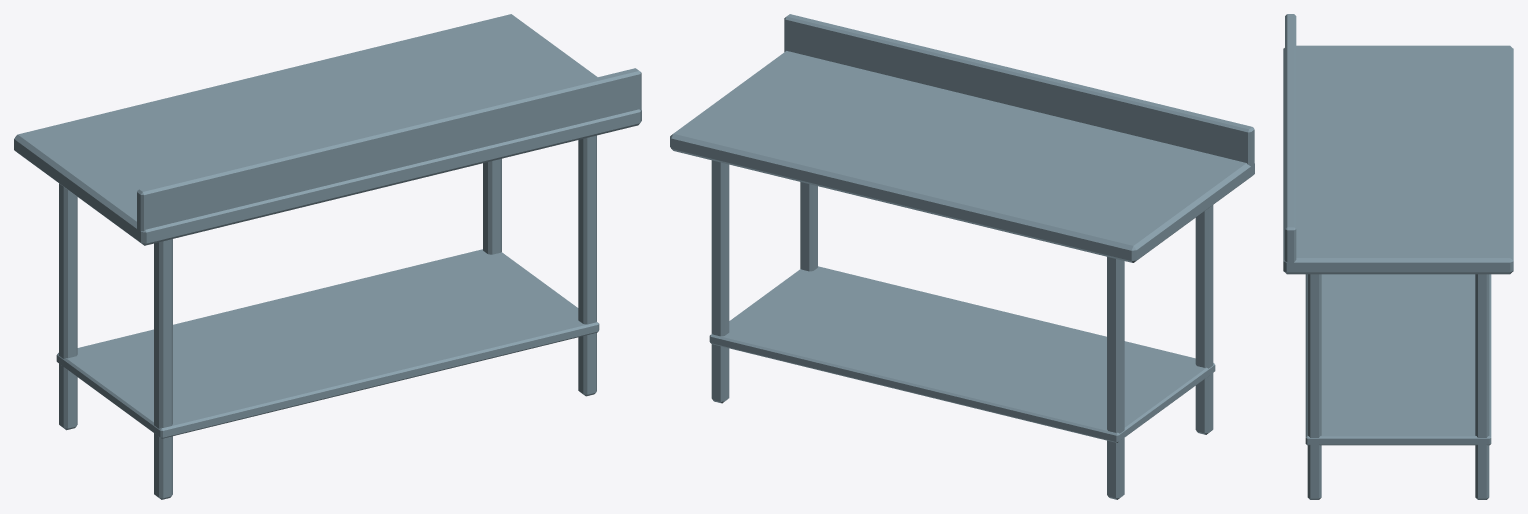
Rendered from stainless_prep_table.glb.
3 renders of one model, left to right at view 1: azimuth 30°, elevation 25°; view 2: azimuth 150°, elevation 25°; view 3: azimuth 270°, elevation 25°, orthographic. The views are drawn at different scales.
Visible parts, largest first — view 1: work_surface, lower_shelf, rear_splash_guard, table_leg (×4); view 2: work_surface, lower_shelf, rear_splash_guard, table_leg (×4); view 3: work_surface, lower_shelf, table_leg (×2), rear_splash_guard.
Boxes of the visible parts, x1,y1,x2,y2 form: work_surface: (14, 14, 641, 245); lower_shelf: (56, 249, 599, 438); rear_splash_guard: (137, 68, 641, 238); table_leg (×4): (59, 135, 596, 499); work_surface: (670, 51, 1254, 262); lower_shelf: (709, 266, 1215, 442); rear_splash_guard: (784, 14, 1254, 166); table_leg (×4): (711, 160, 1213, 499); work_surface: (1283, 45, 1513, 274); lower_shelf: (1305, 274, 1491, 445); table_leg (×2): (1307, 274, 1489, 499); rear_splash_guard: (1285, 14, 1296, 269).
Size of the model in its own units: 1.7 by 1.06 by 0.77.
